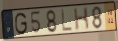5: (30, 11, 43, 35)
8: (91, 5, 104, 31), (45, 9, 58, 34)
G: (14, 12, 29, 37)
H: (73, 6, 90, 32)
L: (61, 8, 73, 33)
